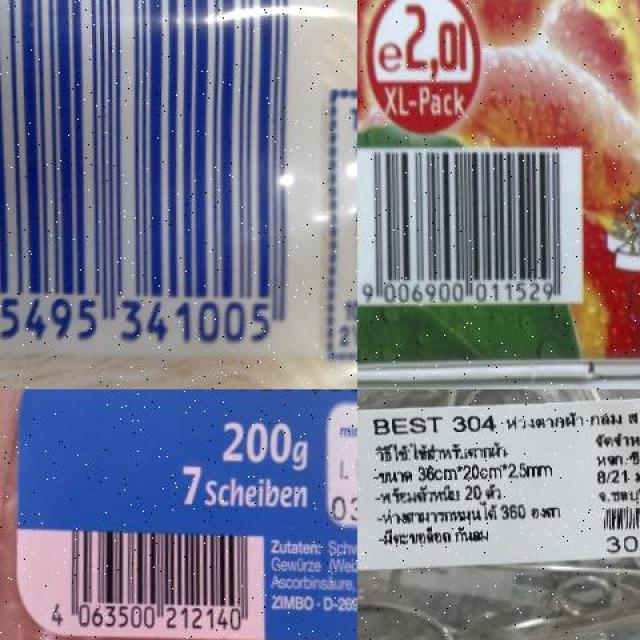Barcode: (0, 0, 320, 360), (357, 144, 580, 305), (36, 517, 263, 640), (589, 501, 640, 555)
